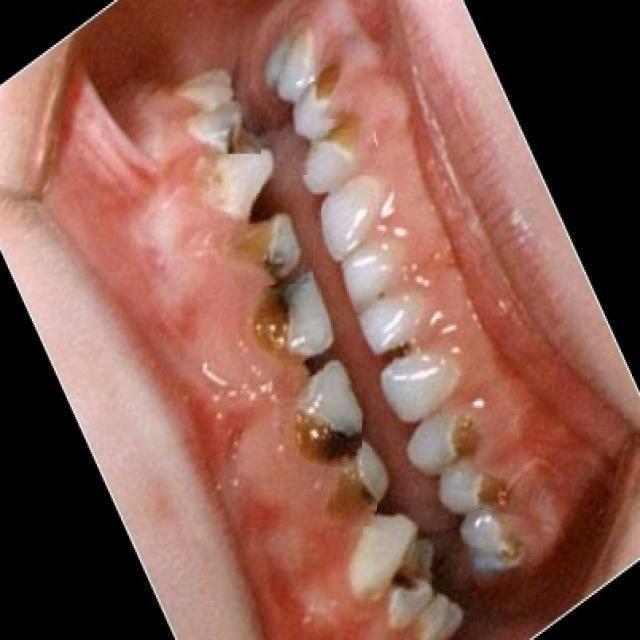Cavity: (285, 378, 362, 467), (261, 281, 324, 375), (236, 212, 313, 286), (471, 526, 543, 587), (328, 438, 377, 526), (186, 105, 262, 154), (297, 130, 376, 176), (200, 156, 262, 213), (457, 462, 529, 510), (397, 556, 438, 637), (317, 51, 351, 121), (281, 22, 315, 81), (447, 402, 492, 444)
